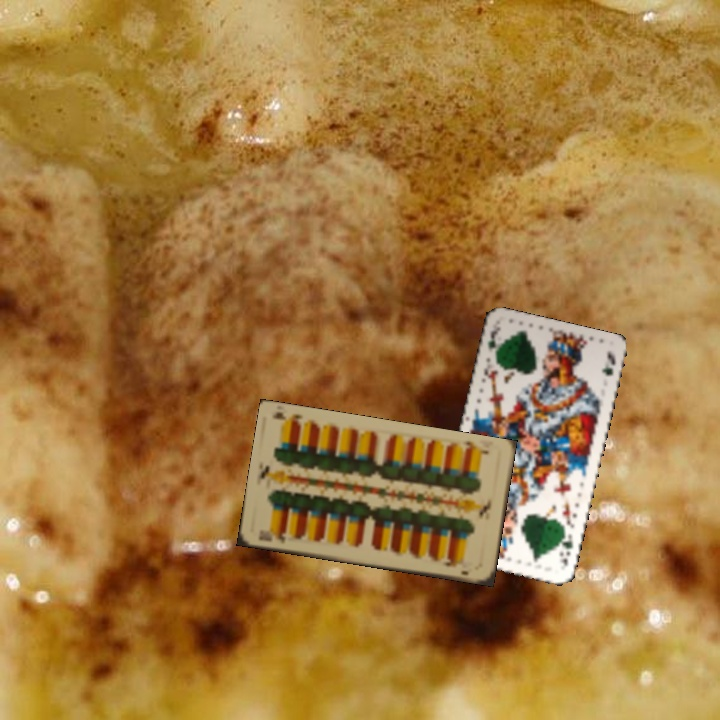E10: (459, 436, 491, 457), (254, 527, 288, 546)
GK: (557, 530, 576, 571), (483, 323, 504, 360)
